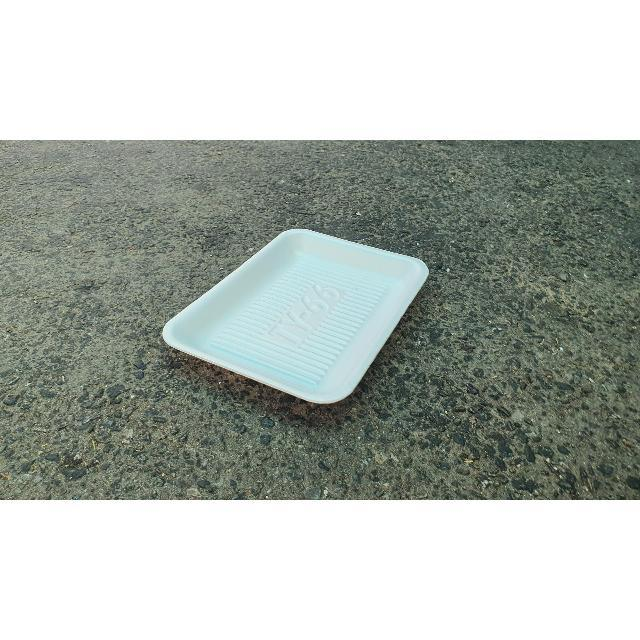Recipiente plastico: (164, 230, 429, 403)
